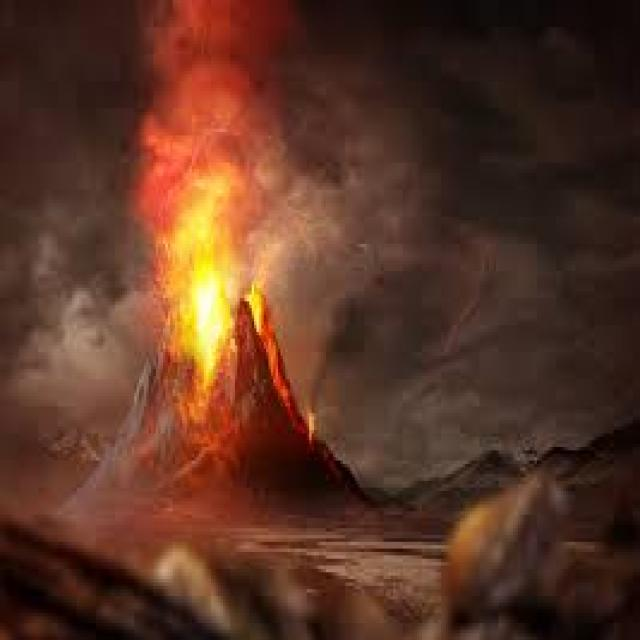explosion: (125, 32, 312, 438)
